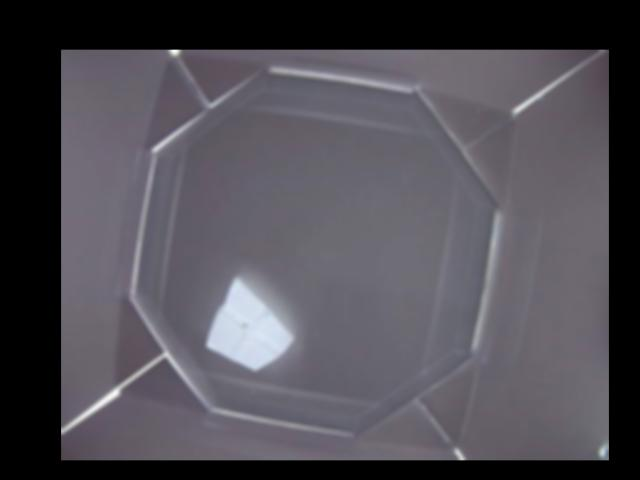China: (204, 275, 291, 368)
